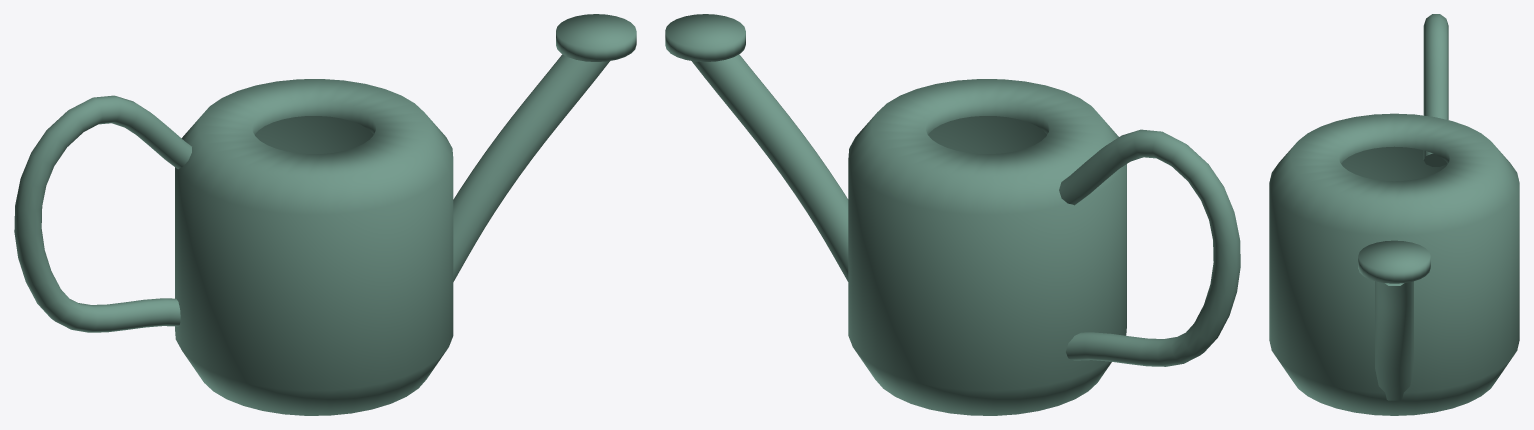
File: sku_watering_can.glb
3 views of the same model, side by side, from view 1: azimuth 30°, elevation 25°; view 2: azimuth 150°, elevation 25°; view 3: azimuth 270°, elevation 25° (orthographic). The views are drawn at different scales.
Parts seen in each view (by area): view 1: sku_watering_can_Garden_enamel; view 2: sku_watering_can_Garden_enamel; view 3: sku_watering_can_Garden_enamel.
Part boxes in pixels (<box>): sku_watering_can_Garden_enamel: <box>14,14,636,415</box>; sku_watering_can_Garden_enamel: <box>665,14,1240,415</box>; sku_watering_can_Garden_enamel: <box>1269,14,1519,415</box>.
Size of the model in its own units: 0.4402 by 0.2124 by 0.18.
